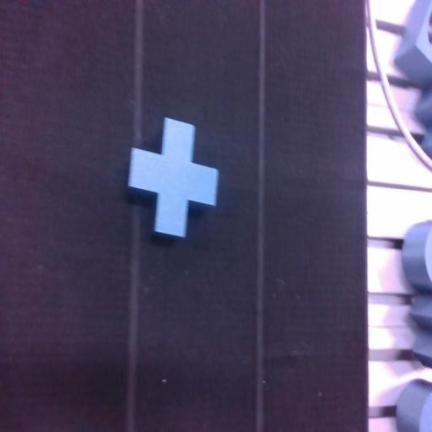cross: (129, 119, 218, 237)
